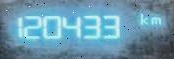0: (43, 12, 61, 39)
1: (16, 14, 22, 39)
2: (22, 13, 40, 39)
3: (101, 13, 121, 40), (82, 14, 100, 39)
4: (60, 14, 81, 38)
X: (148, 15, 161, 25), (137, 12, 147, 25)
